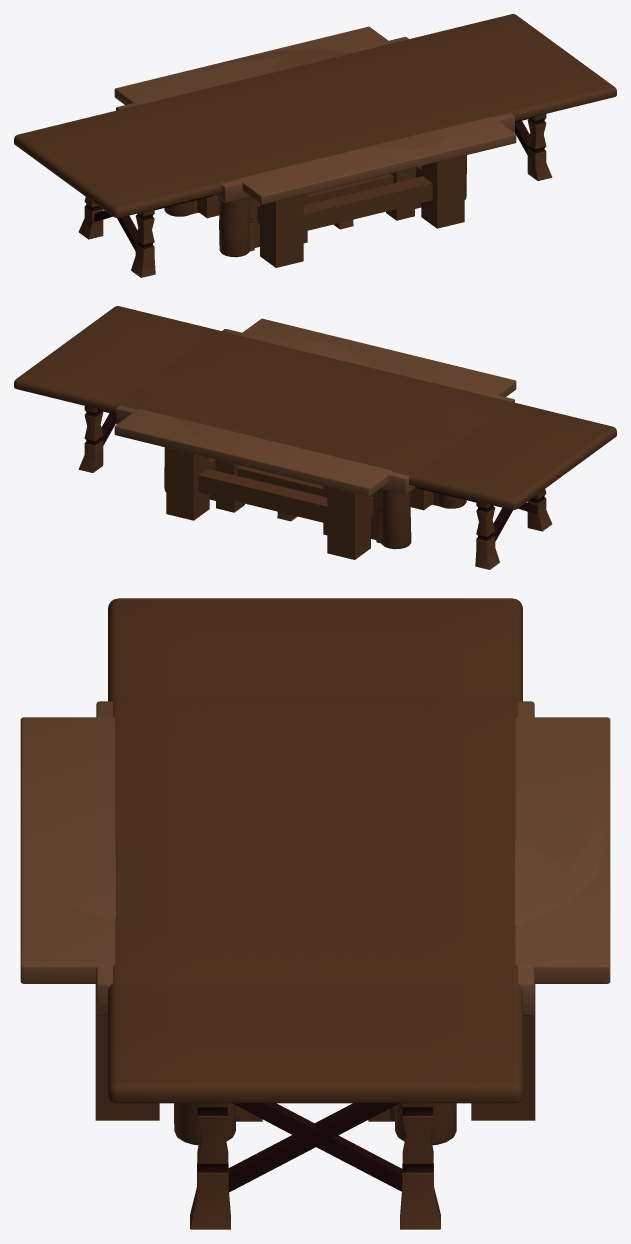
The model's file is Tables.fbx.
3 renders of one model, top to bottom at view 1: azimuth 30°, elevation 25°; view 2: azimuth 150°, elevation 25°; view 3: azimuth 270°, elevation 25°, orthographic. The views are drawn at different scales.
Parts seen in each view (by area): view 1: Tabke 01L C2, Tabke 01 C2, Table 04 C2, Table 03 C2, Table 02 C2, Table 05; view 2: Tabke 01L C2, Tabke 01 C2, Table 04 C2, Table 03 C2, Table 02 C2, Table 05; view 3: Tabke 01L C2, Tabke 01 C2, Table 04 C2, Table 03 C2, Table 02 C2.
Part boxes in pixels (<box>): Tabke 01L C2: <box>14,14,616,277</box>; Tabke 01 C2: <box>117,38,514,251</box>; Table 04 C2: <box>114,26,516,267</box>; Table 03 C2: <box>208,49,456,243</box>; Table 02 C2: <box>116,37,514,257</box>; Table 05: <box>201,167,421,247</box>; Tabke 01L C2: <box>14,306,616,569</box>; Tabke 01 C2: <box>115,330,513,543</box>; Table 04 C2: <box>114,318,516,559</box>; Table 03 C2: <box>178,341,371,535</box>; Table 02 C2: <box>116,329,514,549</box>; Table 05: <box>209,460,429,539</box>; Tabke 01L C2: <box>108,598,522,1229</box>; Tabke 01 C2: <box>108,696,522,992</box>; Table 04 C2: <box>20,717,610,1120</box>; Table 03 C2: <box>53,802,606,929</box>; Table 02 C2: <box>96,701,534,1145</box>.
Size of what is drawn, in the model's own units: 3.94 by 0.704 by 2.
